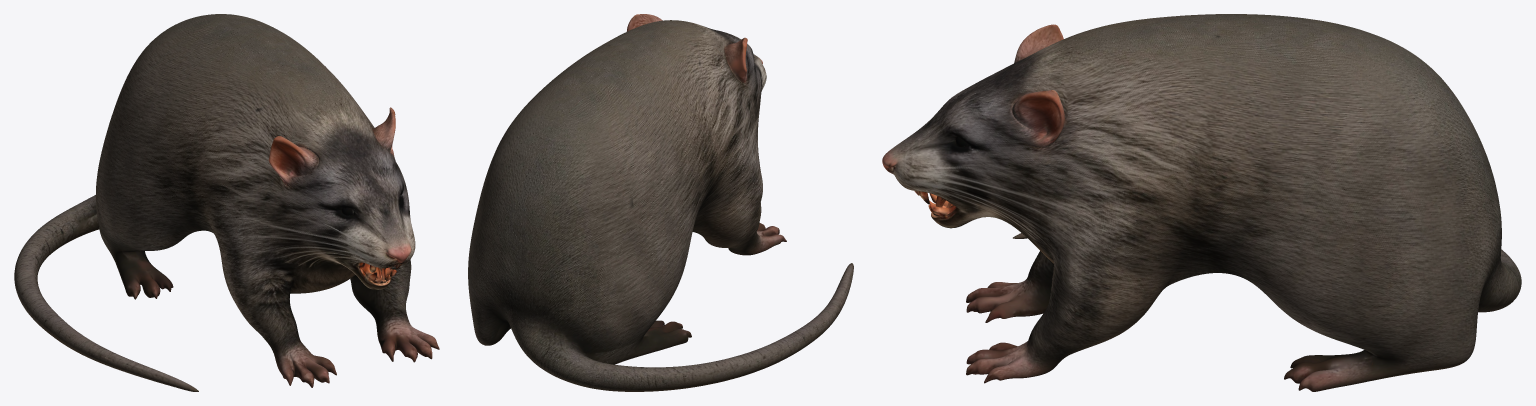
Rendered from giant_rat.glb.
The picture shows the model from 3 angles, left to right: view 1: azimuth 30°, elevation 25°; view 2: azimuth 150°, elevation 25°; view 3: azimuth 270°, elevation 25°; orthographic projection. The views are drawn at different scales.
Parts seen in each view (by area): view 1: material; view 2: material; view 3: material.
Part boxes in pixels (x1,y1,x2,y2): material: (14,14,439,391); material: (468,14,853,391); material: (882,14,1521,391).
Size of the model in its own units: 0.723 by 0.5908 by 1.08.
1 material, 1 textured.
